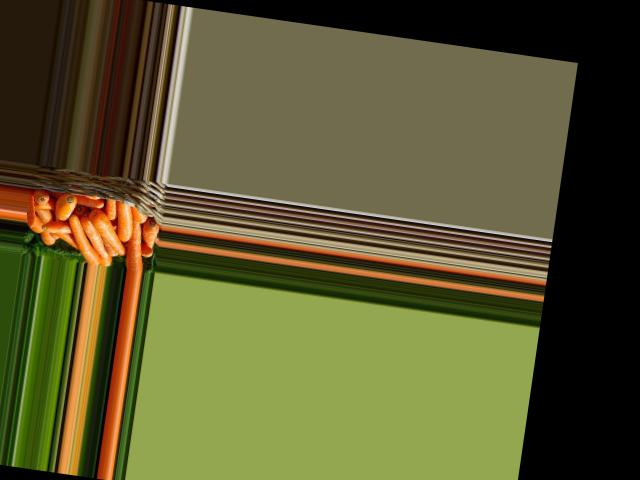carrot: (33, 187, 49, 206)
